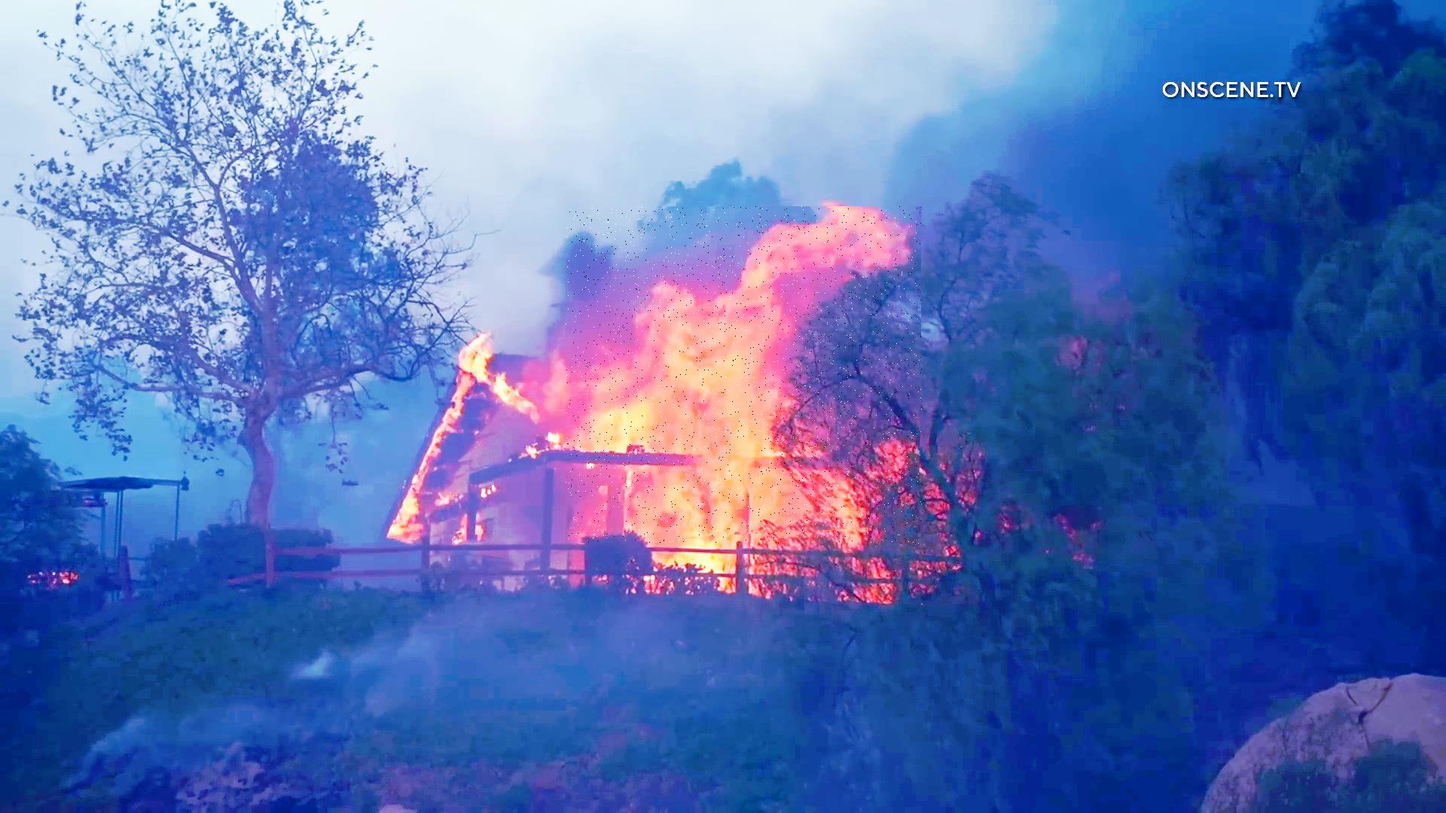fire: (566, 206, 922, 544)
